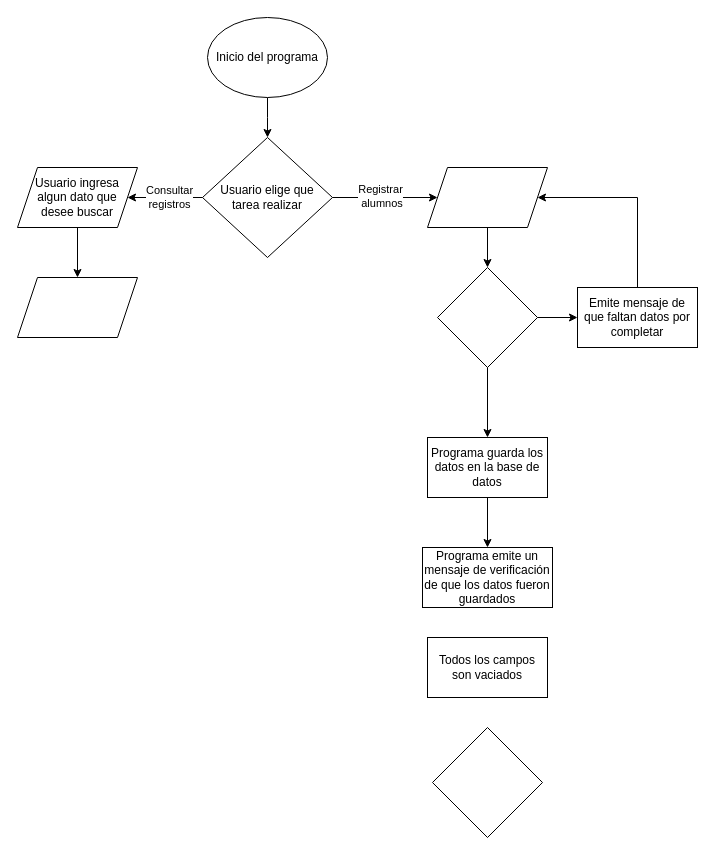
Some shapes in this 715 by 855 pixel diagram are drawn without their labels. The shapes that lost their labels are listed below. From the top down, each one's box as (x1, y1, x2, y2) in pixels, then its label:
(426, 166, 548, 228): Usuario ingresa los datos del alumno
(16, 276, 138, 338): Programa muestra los resultados de la búsqueda
(436, 266, 538, 368): ¿Competó todos los campos?
(432, 726, 542, 838): ¿Usuario desea registrar más alumnos?
